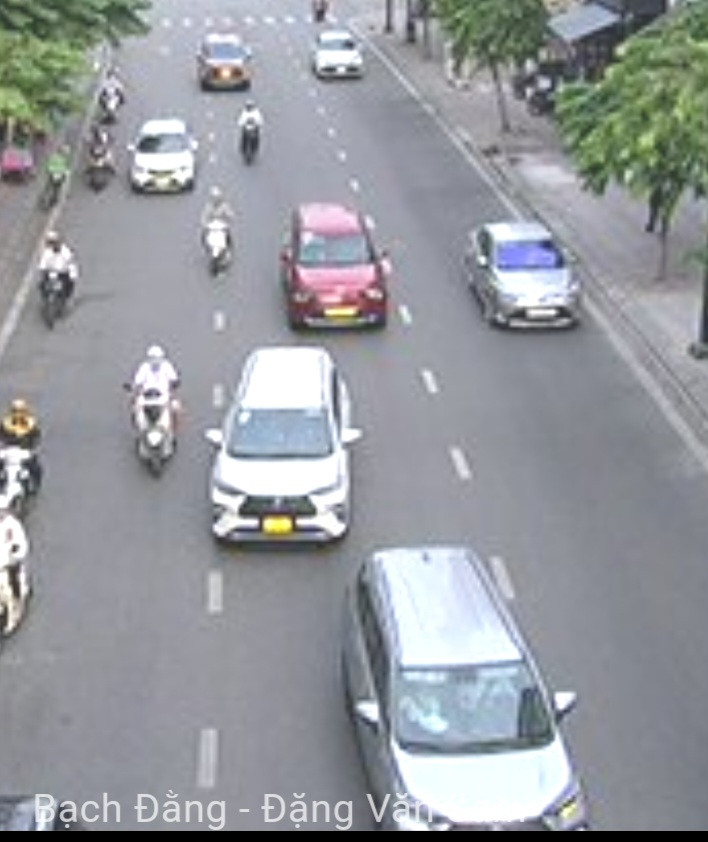car: (343, 552, 587, 829), (210, 344, 353, 546), (282, 199, 389, 333), (463, 224, 589, 335), (128, 118, 195, 196), (197, 33, 251, 90), (314, 29, 364, 80)
